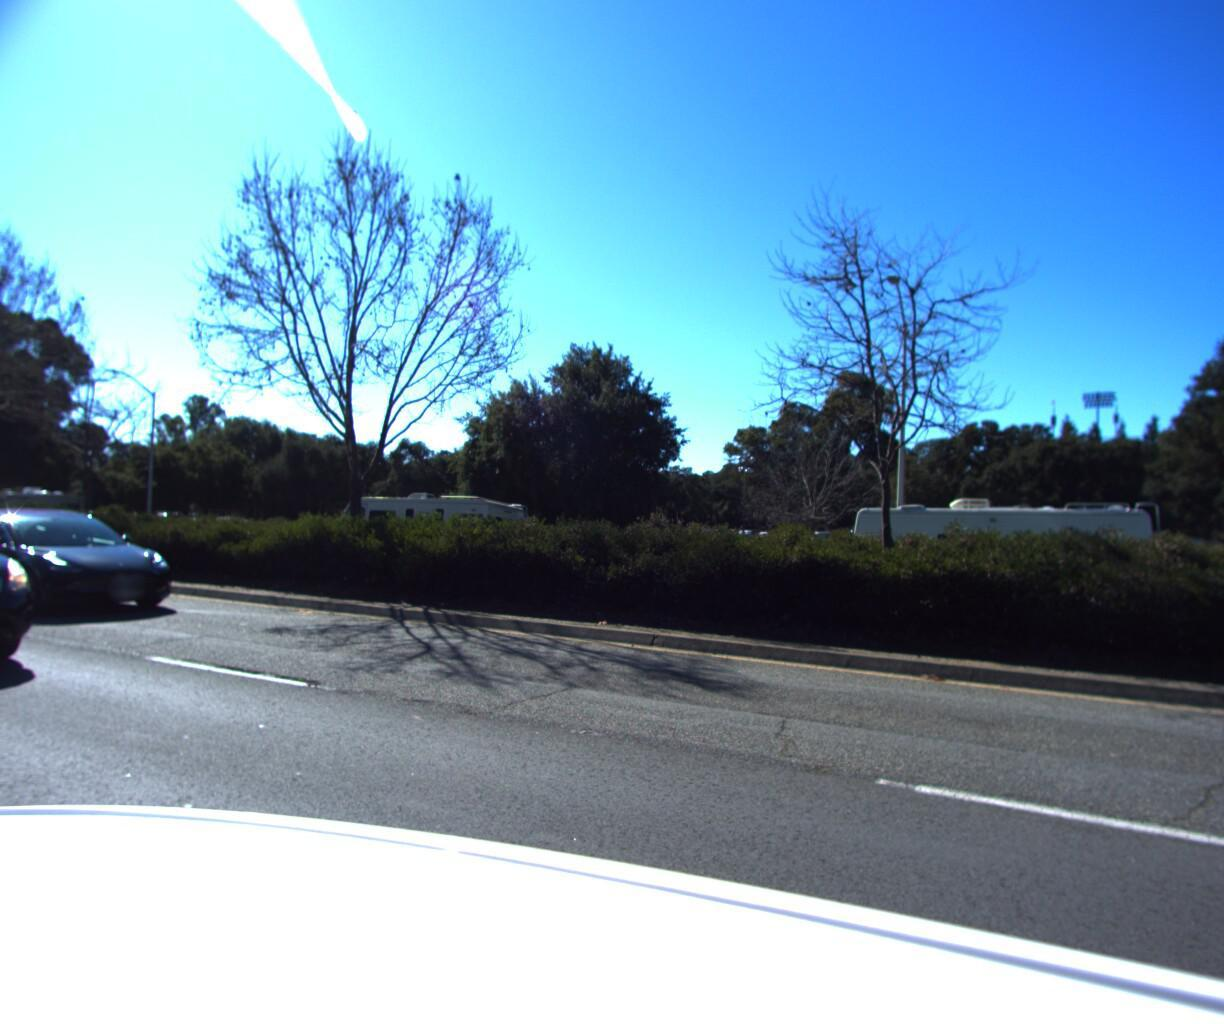car: (0, 520, 160, 629), (0, 484, 74, 712)
other_vehicle: (841, 495, 1166, 634), (326, 494, 531, 585), (0, 487, 94, 553)
